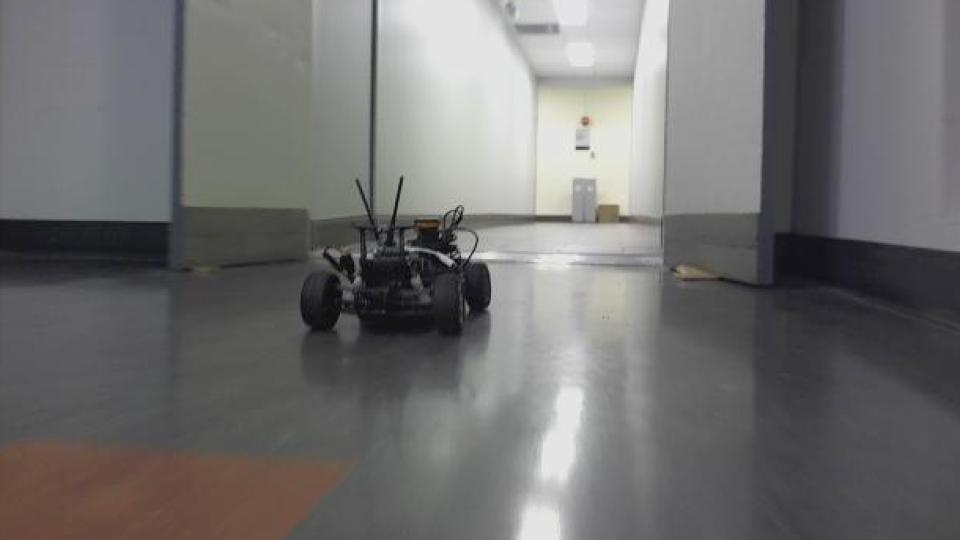car: (296, 172, 494, 340)
